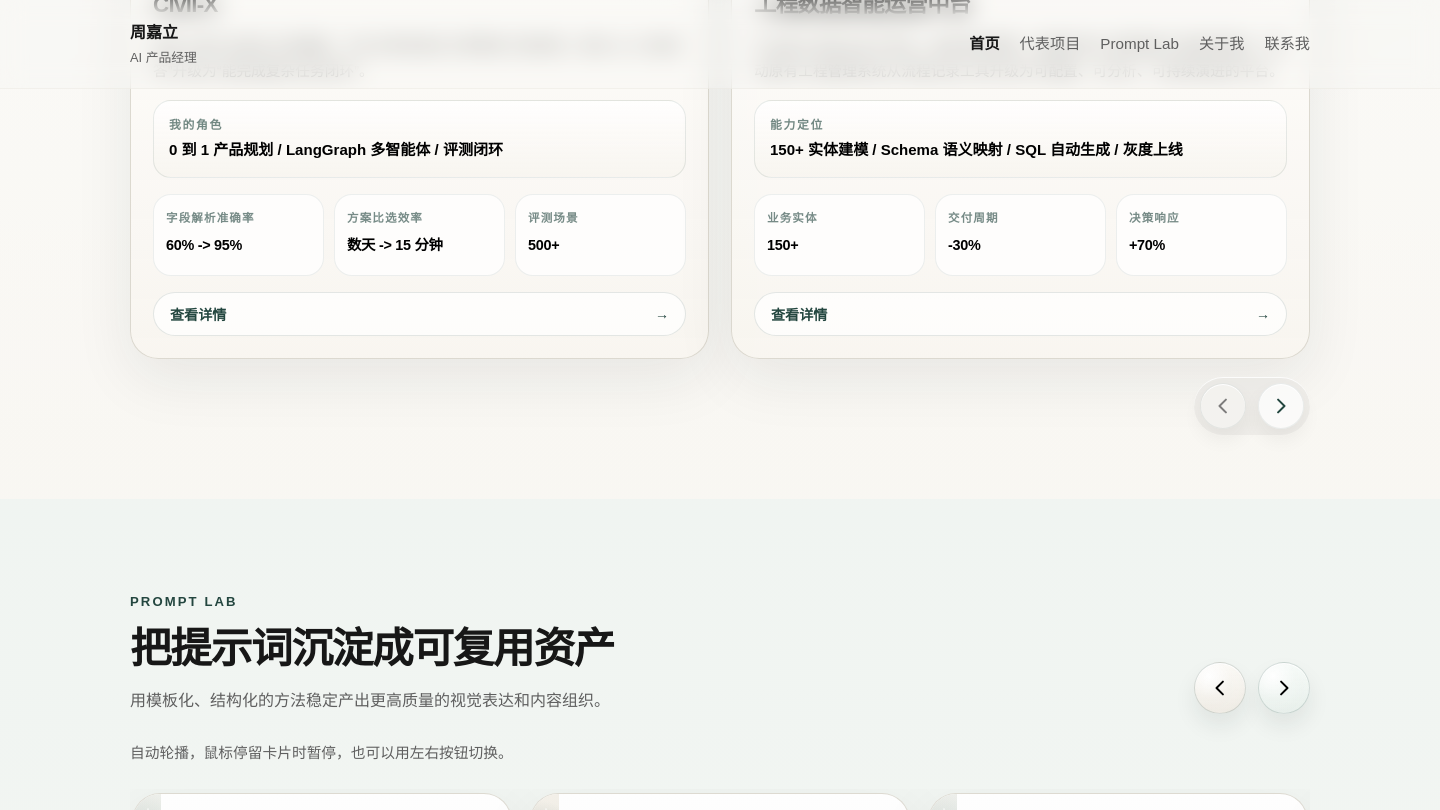
Test: opens a simplified ecommerce smart customer service modal from the second featured-project page
(page scrolled)
Click the button named "打开下一页代表项目".
click(1281, 406)  # box [1258,383,1304,429]
(page scrolled)
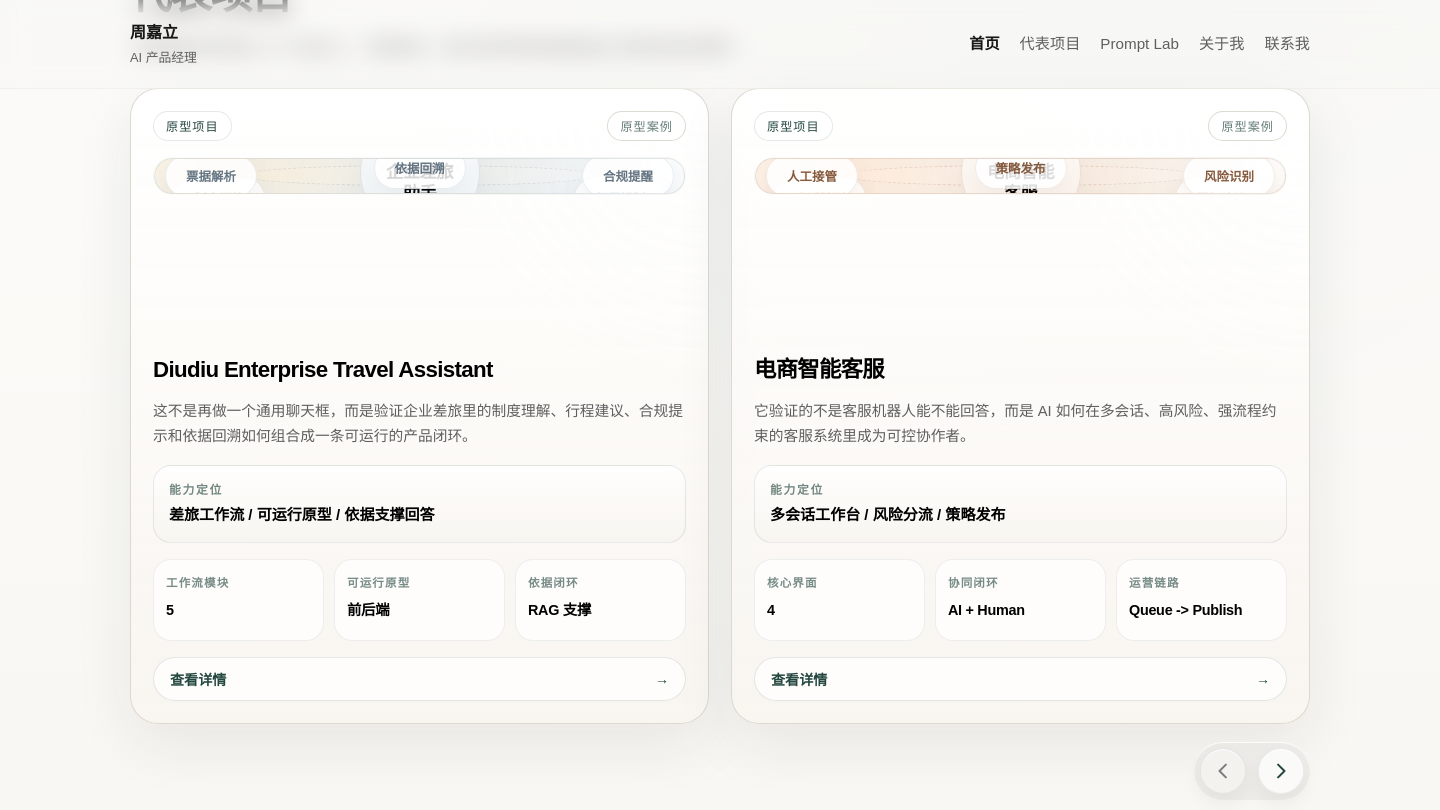
Click the button with aria-label "代表项目：电商智能客服".
click(1020, 406)  # box [731,88,1310,724]
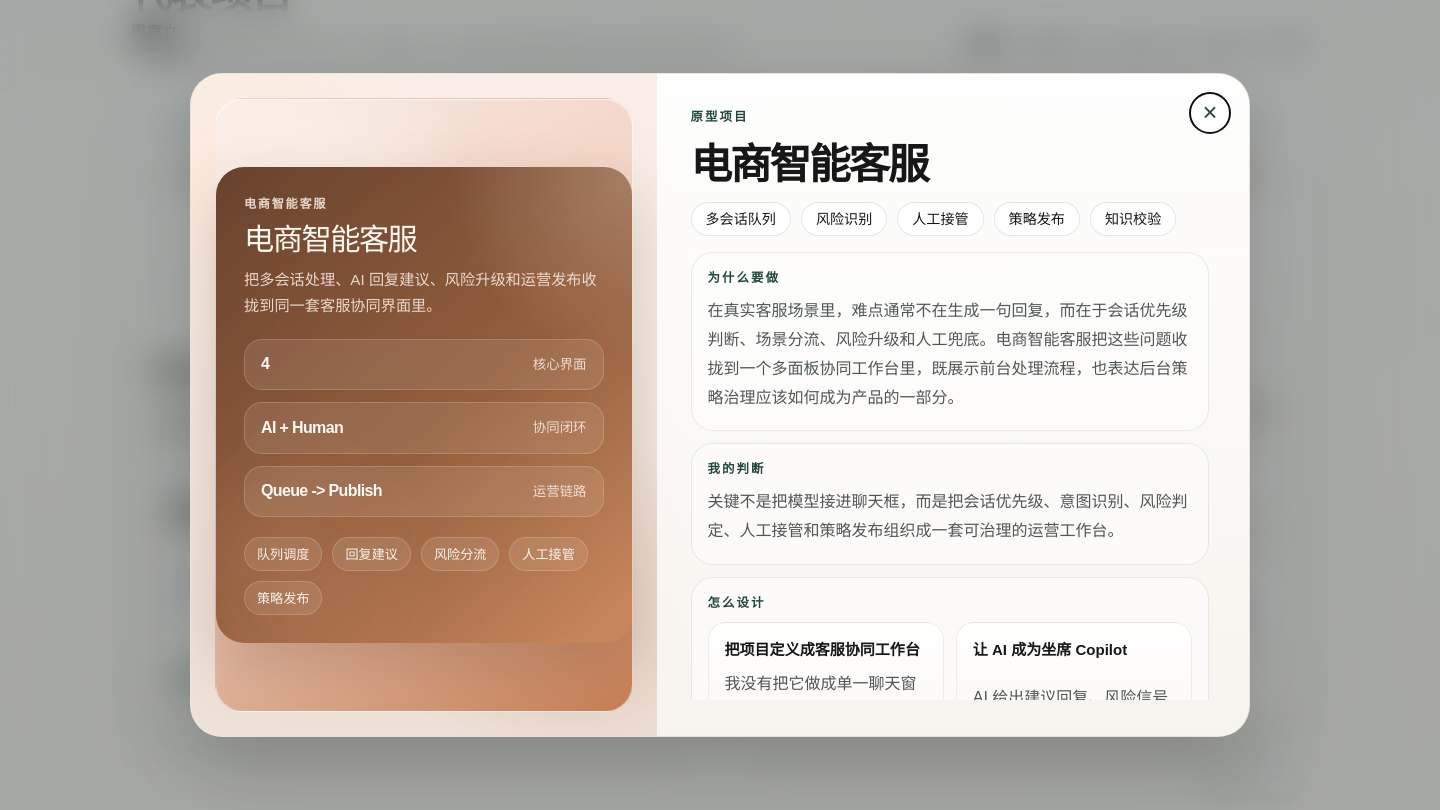
Now the dialog "电商智能客服" is shown
Now the dialog "电商智能客服" shows "人工接管", box [522,547,575,562]
Now the dialog "电商智能客服" shows "策略发布", box [257,591,310,606]
